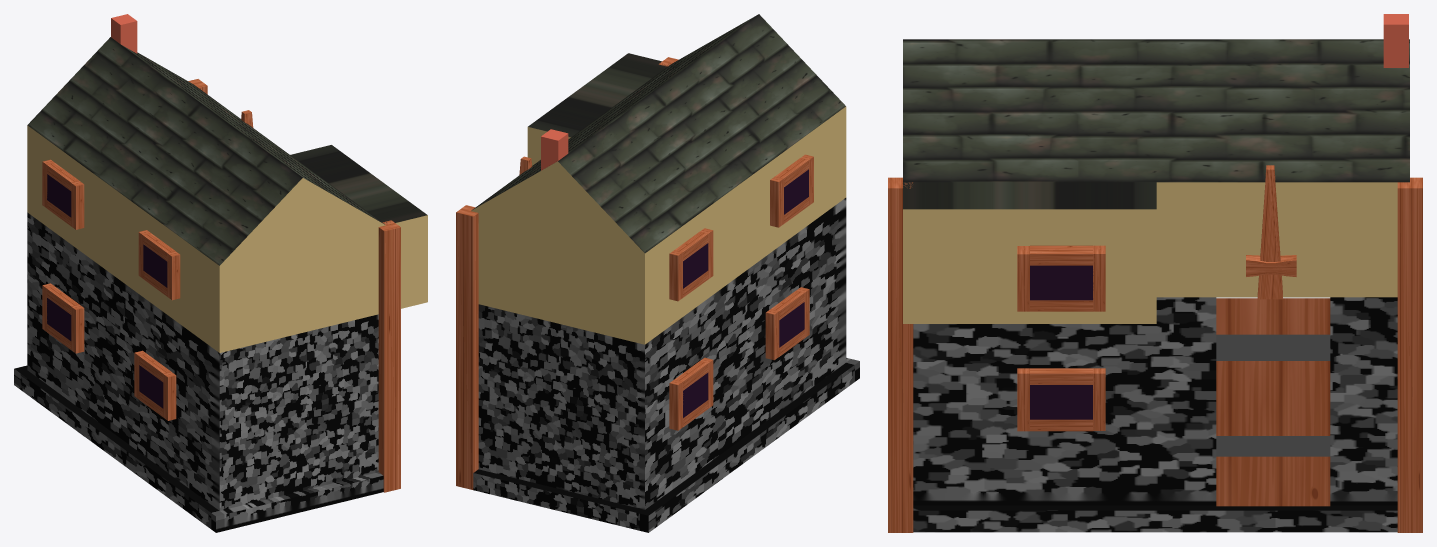
File: shop1.glb
The picture shows the model from 3 angles, left to right: view 1: azimuth 30°, elevation 25°; view 2: azimuth 150°, elevation 25°; view 3: azimuth 270°, elevation 25°; orthographic projection. The views are drawn at different scales.
Visible parts, largest first — view 1: upper, lowerfloor, beam, window.004, window, window.002, window.005, chimney; view 2: upper, lowerfloor, beam.001, window.002, window, window.004, window.005, chimney; view 3: upper, lowerfloor, door, beam.001, beam, window.003, window.001, chimney.002, chimney, chimney.001.
Part boxes in pixels (x1,y1,x2,y2): upper: (27, 37, 427, 352); lowerfloor: (14, 212, 383, 532); beam: (378, 220, 400, 492); window.004: (134, 350, 176, 420); window: (42, 283, 84, 353); window.002: (42, 159, 84, 229); window.005: (138, 230, 180, 300); chimney: (111, 14, 137, 53); upper: (471, 14, 846, 344); lowerfloor: (473, 198, 859, 532); beam.001: (456, 205, 478, 489); window.002: (669, 228, 713, 301); window: (669, 357, 713, 430); window.004: (765, 287, 809, 360); window.005: (770, 154, 813, 227); chimney: (541, 129, 568, 170); upper: (903, 39, 1409, 323); lowerfloor: (913, 297, 1397, 532); door: (1216, 297, 1330, 506); beam.001: (1397, 177, 1422, 532); beam: (888, 177, 913, 532); window.003: (1017, 245, 1105, 311); window.001: (1017, 368, 1105, 431); chimney.002: (1257, 165, 1282, 299); chimney: (1383, 14, 1408, 67); chimney.001: (1246, 255, 1296, 276).
Bounding box in the file's own units: 2.76 × 4 × 4.22.
7 materials, 3 textured.
